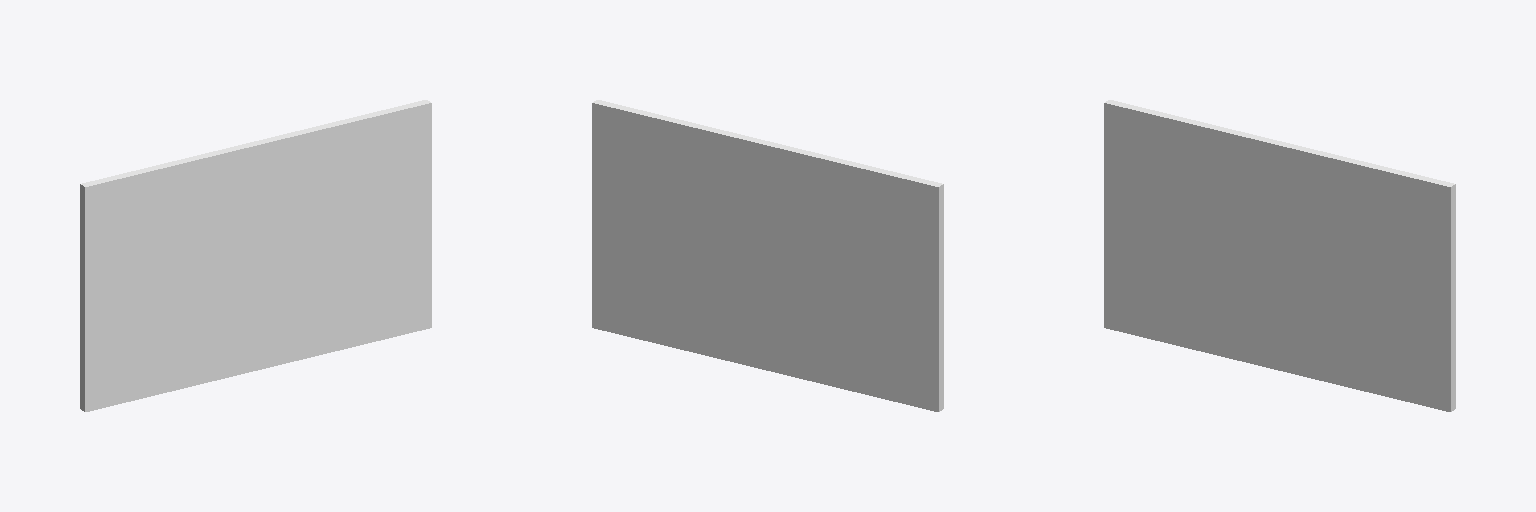
The model's file is cilpan.obj.
3 views of the same model, side by side, from view 1: azimuth 30°, elevation 25°; view 2: azimuth 150°, elevation 25°; view 3: azimuth 330°, elevation 25° (orthographic).
Visible parts, largest first — view 1: object 1; view 2: object 1; view 3: object 1.
Boxes of the visible parts, <box> form: object 1: <box>80,100,431,411</box>; object 1: <box>592,100,943,411</box>; object 1: <box>1104,100,1455,411</box>.
Bounding box in the file's own units: 25.6 × 15.9 × 0.6.